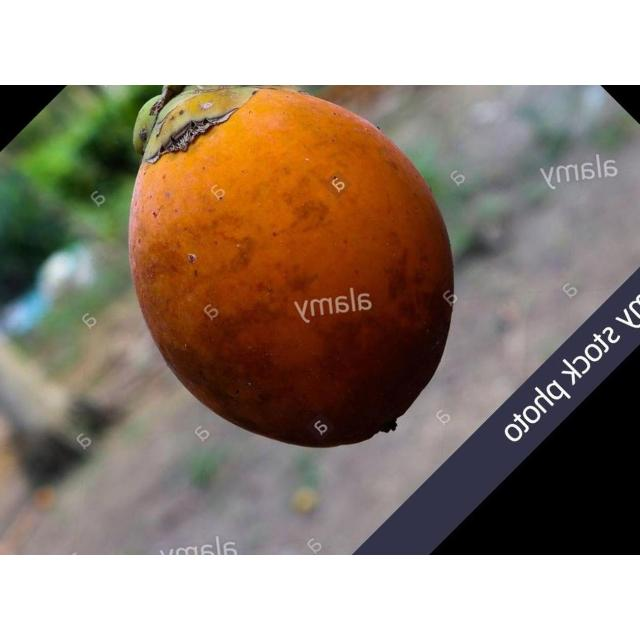good: (127, 85, 455, 450)
